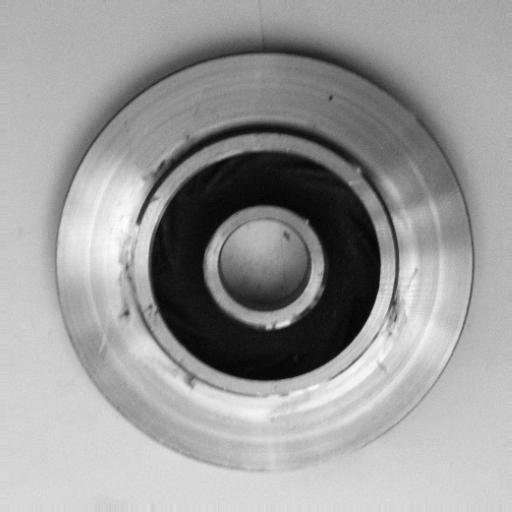crack: (110, 224, 152, 328), (140, 130, 192, 203), (387, 264, 419, 348)
unpolished_casting: (55, 51, 475, 477)
